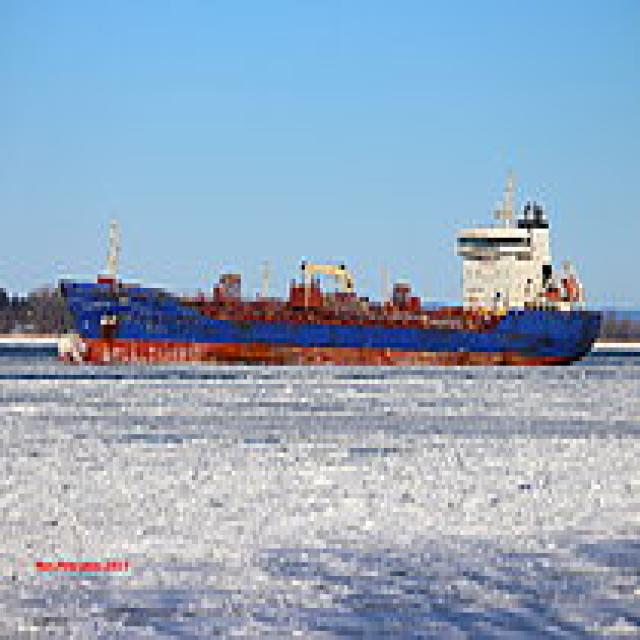Tanker: (52, 165, 597, 361)
